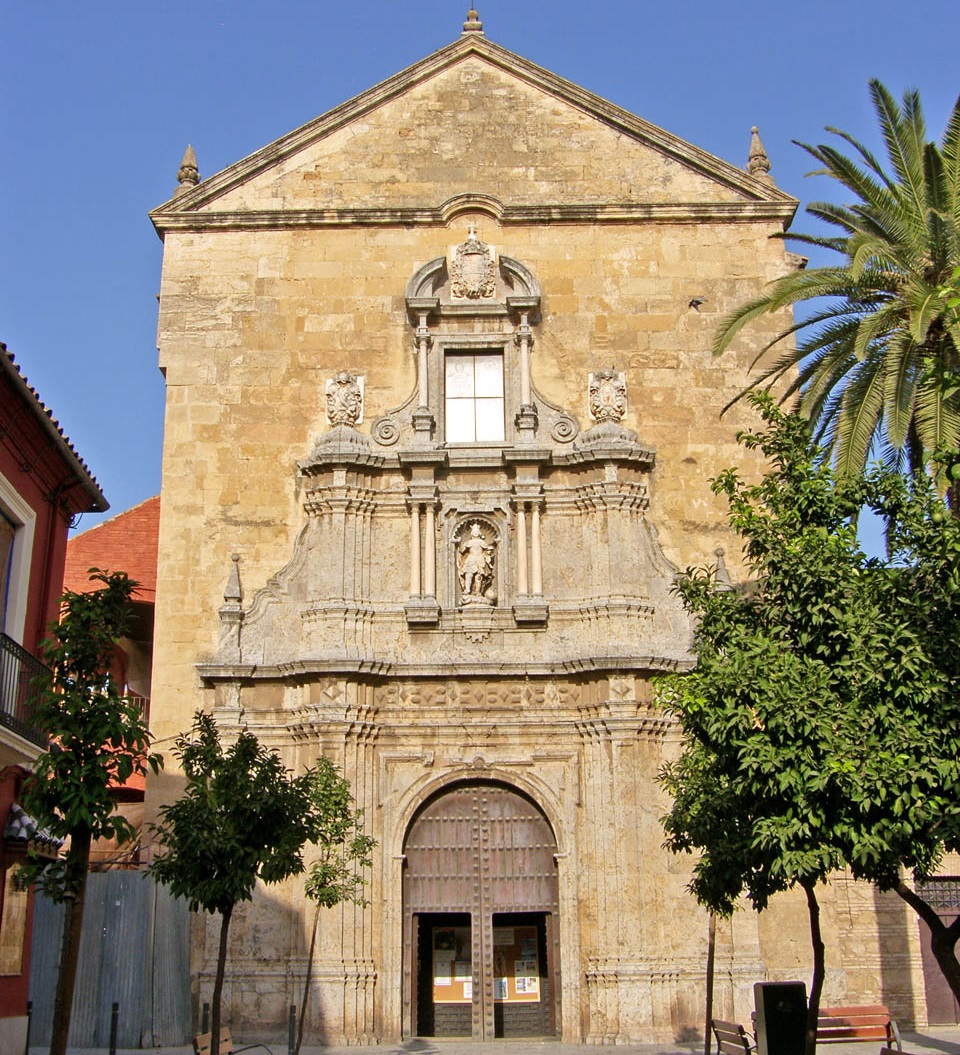arco-medio-punto: (389, 769, 570, 878)
fronton: (144, 25, 805, 230)
fronton-partido: (402, 249, 549, 317)
